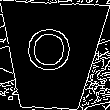O_S: (27, 29, 77, 82)
